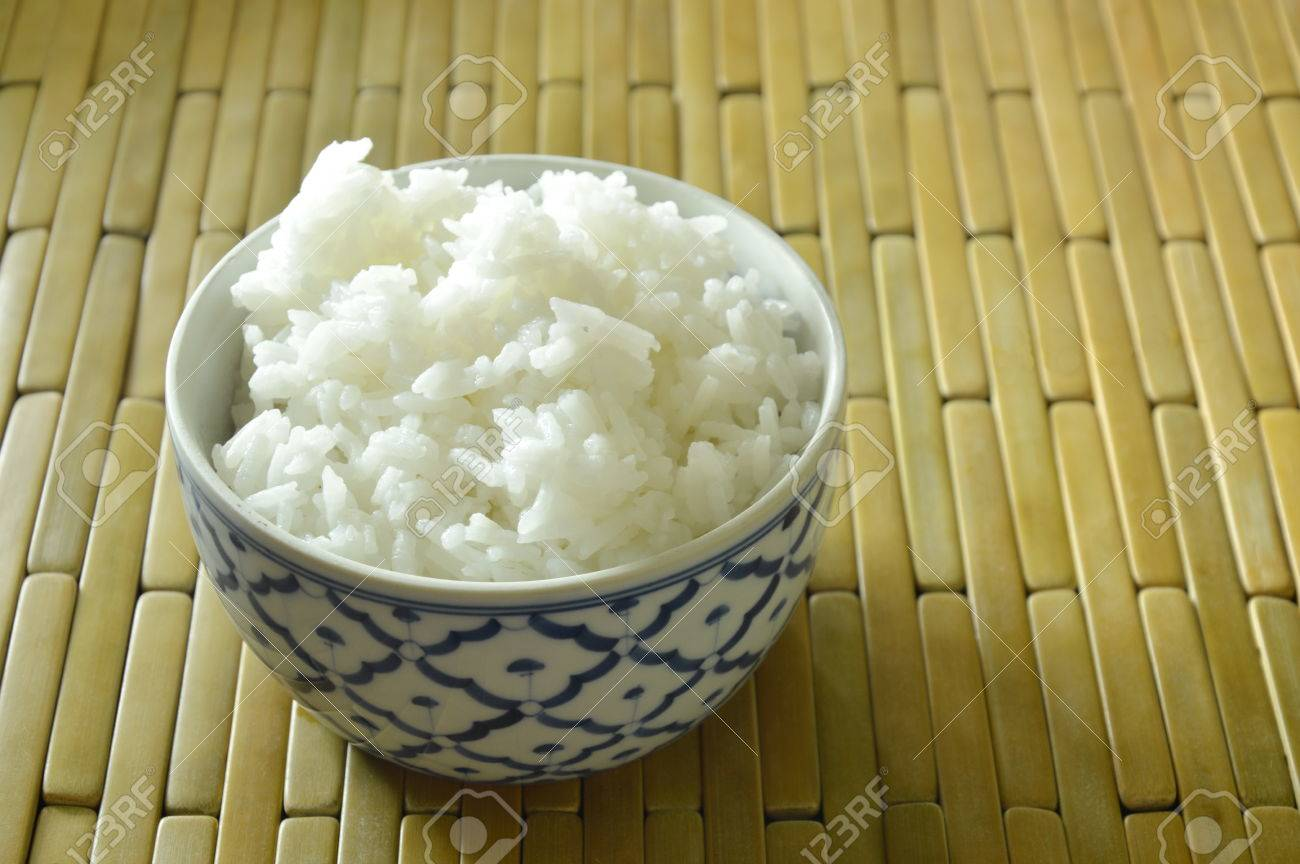plain rice: (234, 138, 815, 576)
